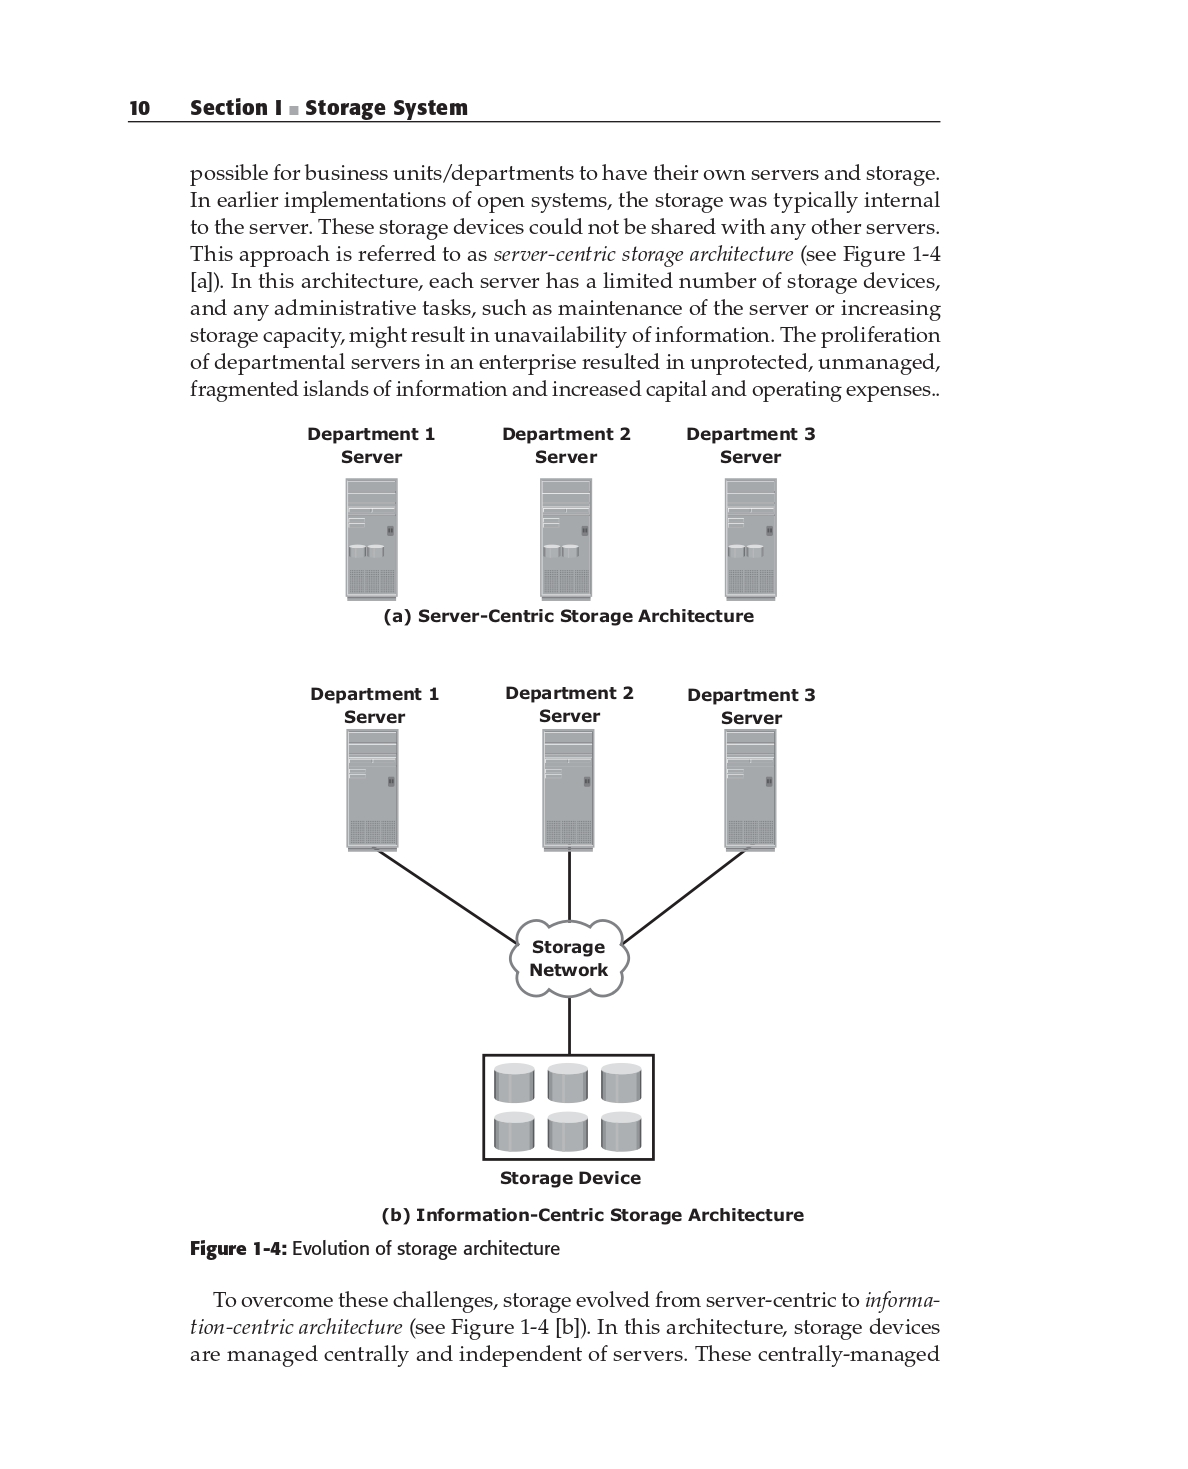Image: (292, 671, 844, 1198), (298, 415, 856, 634)
Paragraph: (187, 155, 952, 415), (190, 1285, 952, 1372), (116, 79, 470, 128), (193, 1233, 584, 1276), (365, 1206, 829, 1235)
